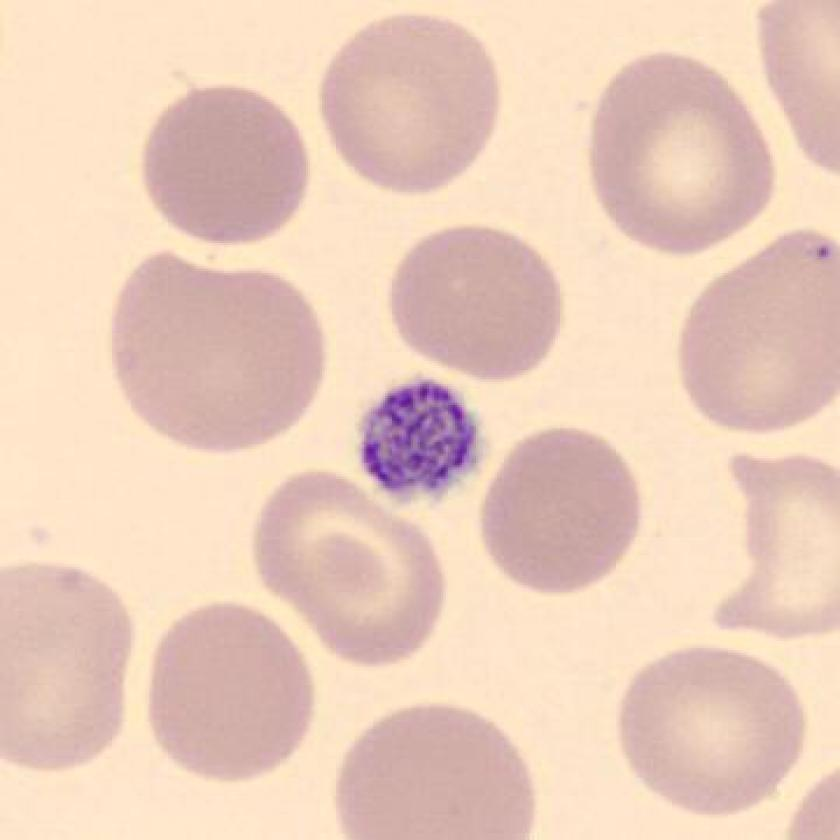platelets: (349, 378, 486, 508)
